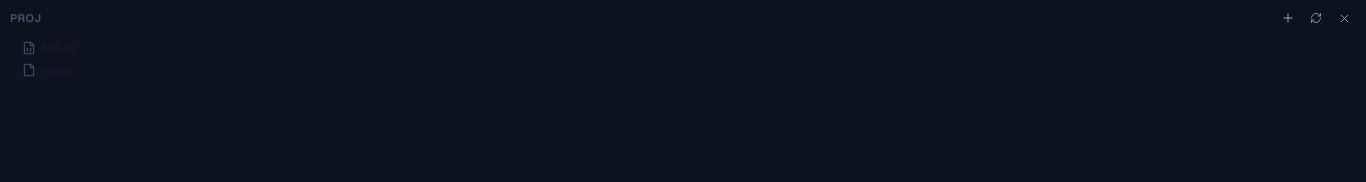
FileExplorer failed create (research-r-01) › a platform refusal also stays beside the input and the tree survives
Click the button named "New file, circuit or folder": (1288, 18) [1276, 6, 1300, 30]
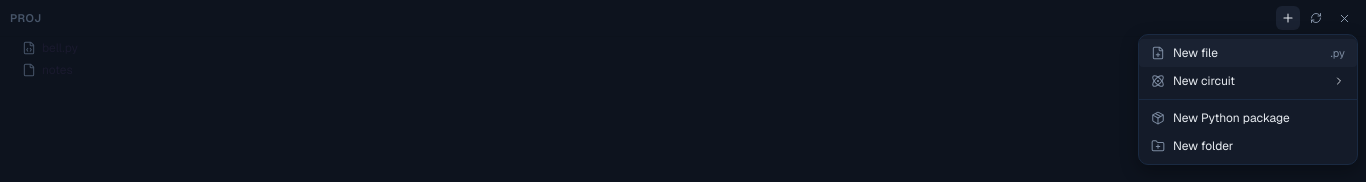
Click the menu item "New file .py": (1248, 53) [1139, 39, 1357, 67]
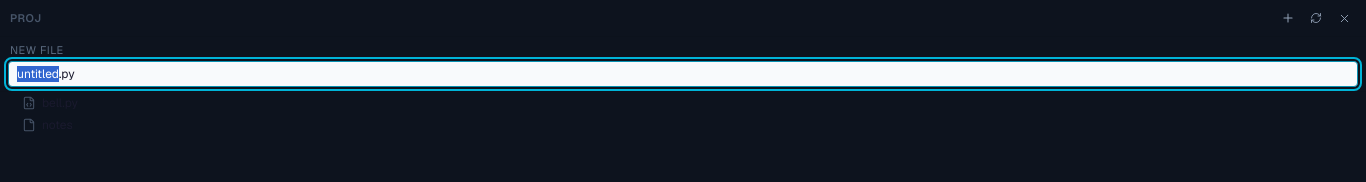
In the field named "name": (683, 74) [8, 61, 1358, 87], type "fresh"
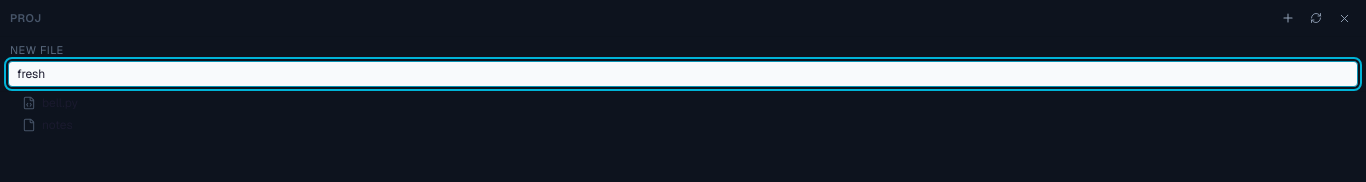
Press Enter in the field named "name", box [8, 61, 1358, 87]
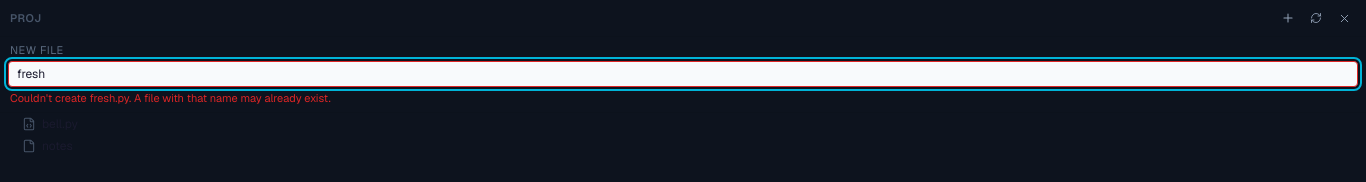
Now the message shows "Couldn't create fresh.py", box [10, 91, 331, 105]
